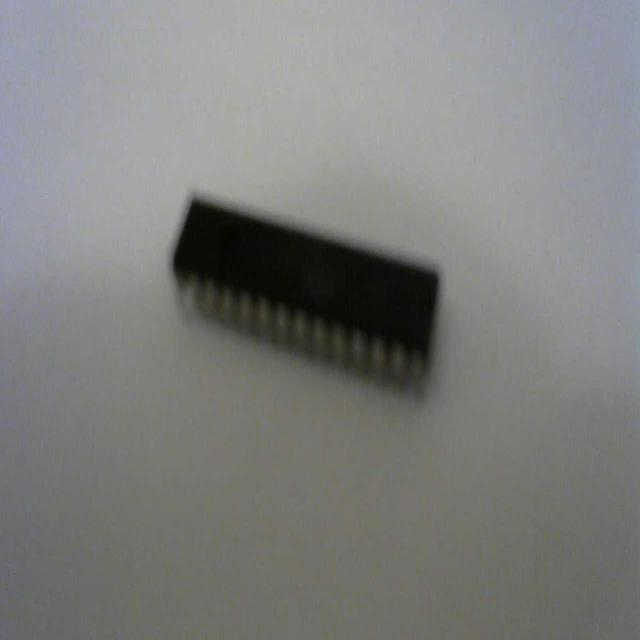atmega: (169, 187, 443, 399)
